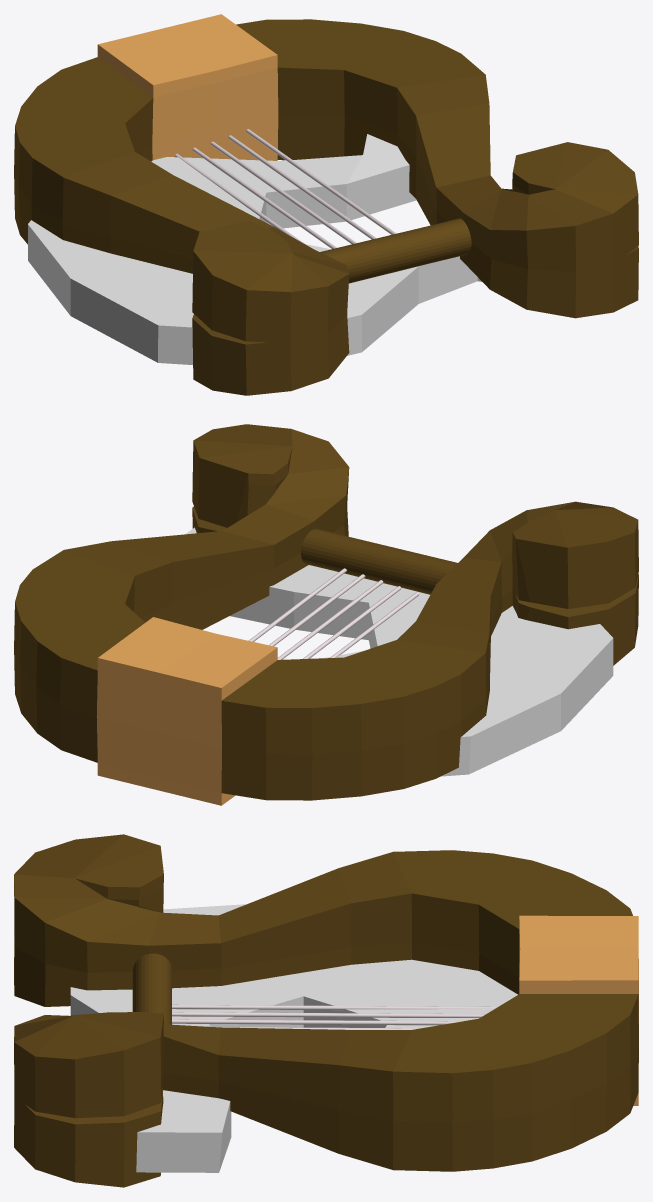
The picture shows the model from 3 angles, top to bottom: view 1: azimuth 30°, elevation 25°; view 2: azimuth 150°, elevation 25°; view 3: azimuth 270°, elevation 25°; orthographic projection. The views are drawn at different scales.
Parts seen in each view (by area): view 1: Plane, Cube, NurbsPath; view 2: Plane, Cube, NurbsPath; view 3: Plane, Cube, NurbsPath.
Boxes of the visible parts, <box> form: Plane: <box>14,14,638,395</box>; Cube: <box>28,134,481,364</box>; NurbsPath: <box>175,129,396,248</box>; Plane: <box>14,424,638,805</box>; Cube: <box>185,527,613,776</box>; NurbsPath: <box>248,568,419,659</box>; Plane: <box>14,834,638,1187</box>; Cube: <box>70,904,517,1172</box>; NurbsPath: <box>172,1004,497,1029</box>.
Size of the model in its own units: 247 by 66.68 by 272.
